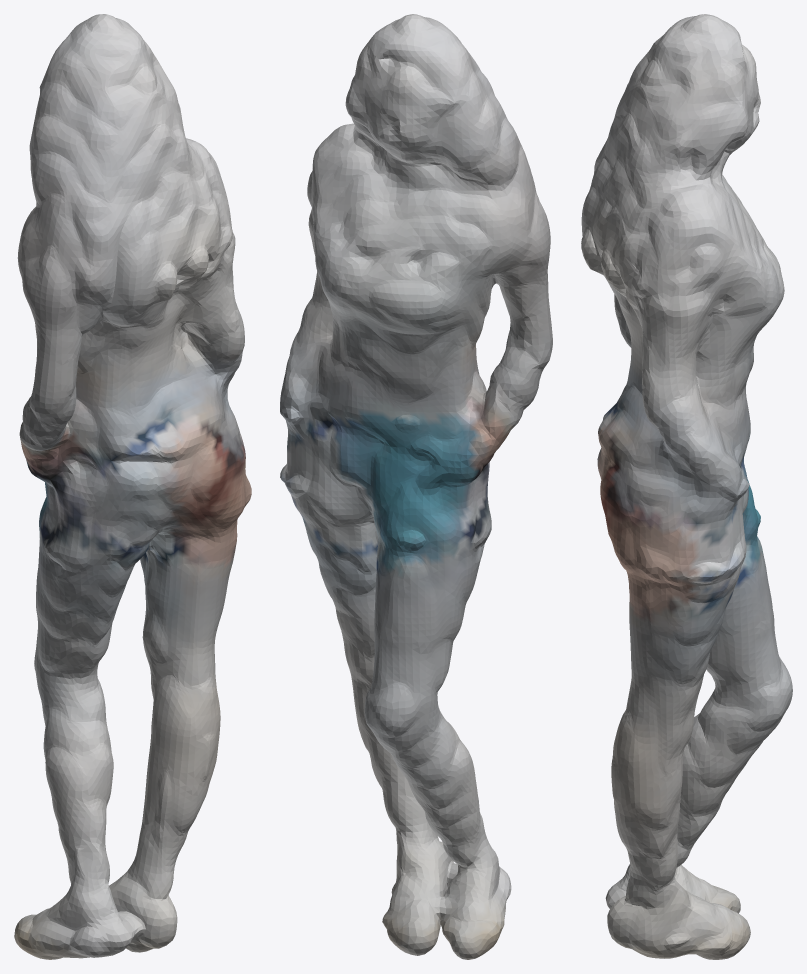
Rendered from avatar_ready.glb.
3 views of the same model, side by side, from view 1: azimuth 30°, elevation 25°; view 2: azimuth 150°, elevation 25°; view 3: azimuth 270°, elevation 25° (orthographic).
Visible parts, largest first — view 1: geometry_0; view 2: geometry_0; view 3: geometry_0.
Part boxes in pixels (bbox=[...]): geometry_0: bbox=[14, 14, 251, 959]; geometry_0: bbox=[280, 14, 552, 959]; geometry_0: bbox=[581, 14, 792, 959].
Bounding box in the file's own units: 0.4639 × 1.75 × 0.3556.
